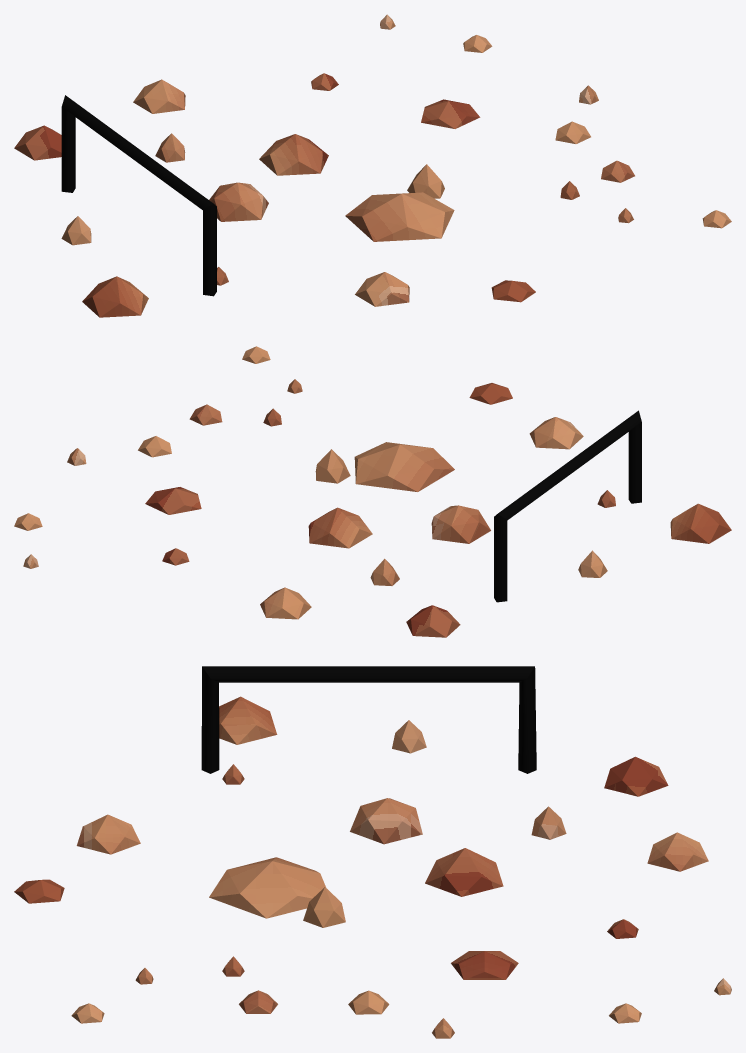
File: track_edge_sand.glb
3 renders of one model, top to bottom at view 1: azimuth 30°, elevation 25°; view 2: azimuth 150°, elevation 25°; view 3: azimuth 270°, elevation 25°, orthographic. The views are drawn at different scales.
Parts seen in each view (by area): view 1: track_edge_sand; view 2: track_edge_sand; view 3: track_edge_sand.
Part boxes in pixels (<box>): track_edge_sand: <box>14,14,731,317</box>; track_edge_sand: <box>14,346,731,637</box>; track_edge_sand: <box>14,666,731,1038</box>.
Bounding box in the file's own units: 2.01 × 0.3052 × 1.87.
2 materials, 1 textured.
